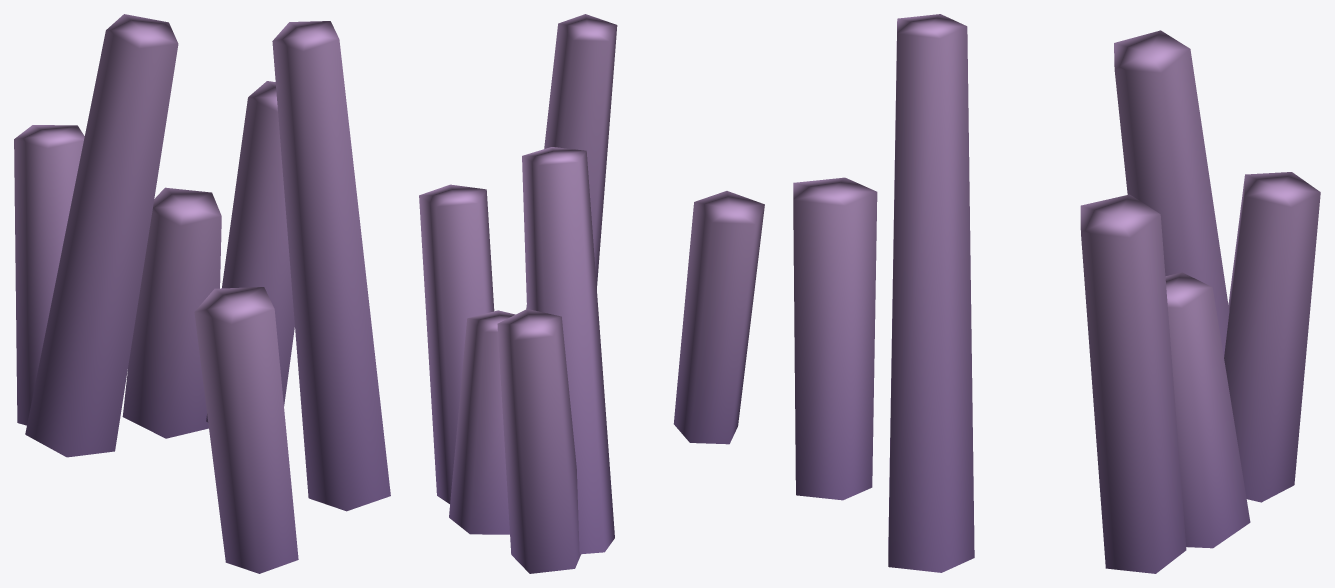
The model's file is coral_c_lod1.glb.
The picture shows the model from 3 angles, left to right: view 1: azimuth 30°, elevation 25°; view 2: azimuth 150°, elevation 25°; view 3: azimuth 270°, elevation 25°; orthographic projection. The views are drawn at different scales.
Visible parts, largest first — view 1: coral_c_lod1; view 2: coral_c_lod1; view 3: coral_c_lod1.
Part boxes in pixels (<box>): coral_c_lod1: <box>14,14,390,573</box>; coral_c_lod1: <box>419,14,764,573</box>; coral_c_lod1: <box>793,14,1320,573</box>.
Bounding box in the file's own units: 0.7123 × 1.29 × 1.19.
